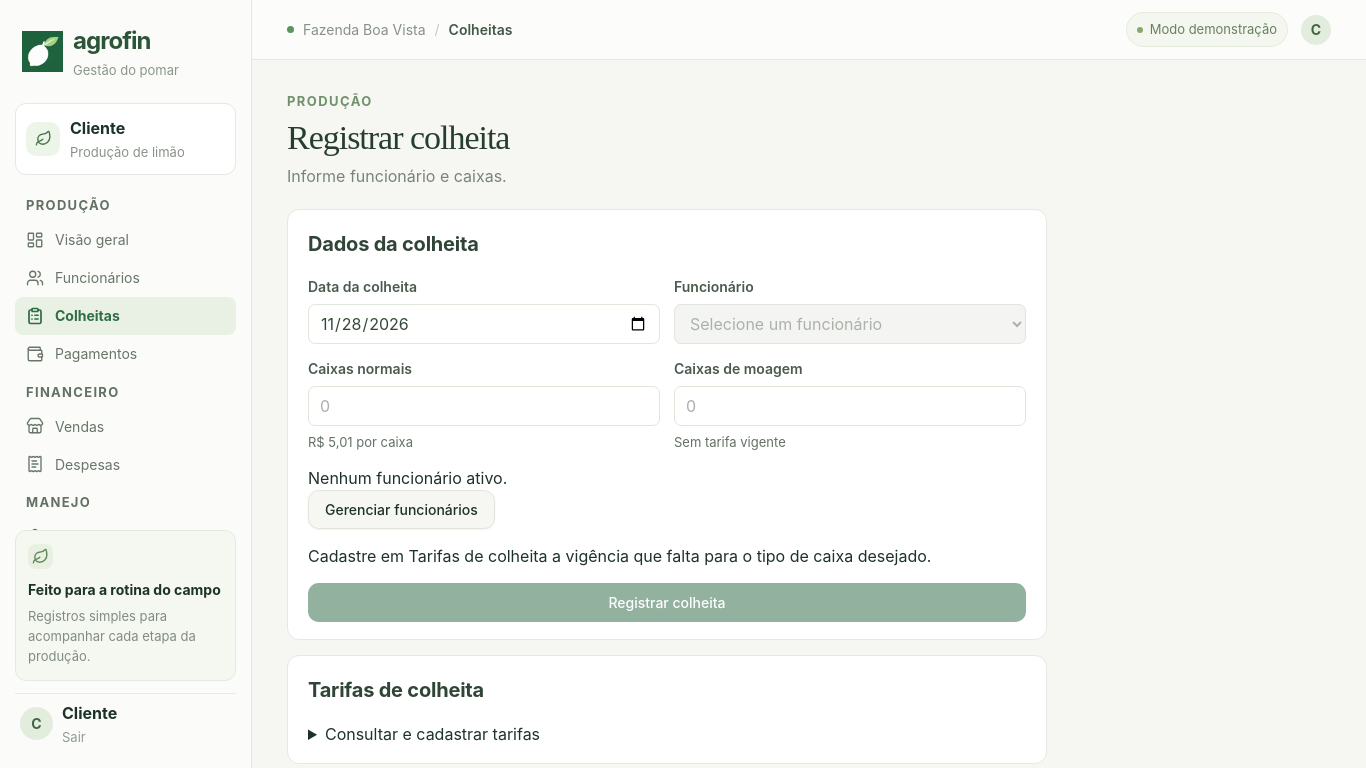
Scenario: Tarifas e colheitas › abre o cadastro de funcionários a partir da lista vazia
Expected: the text "Nenhum funcionário ativo." is shown, [308, 468, 507, 488]
Step 1. Click the button "Gerenciar funcionários" → click(401, 510), box [308, 490, 495, 529]
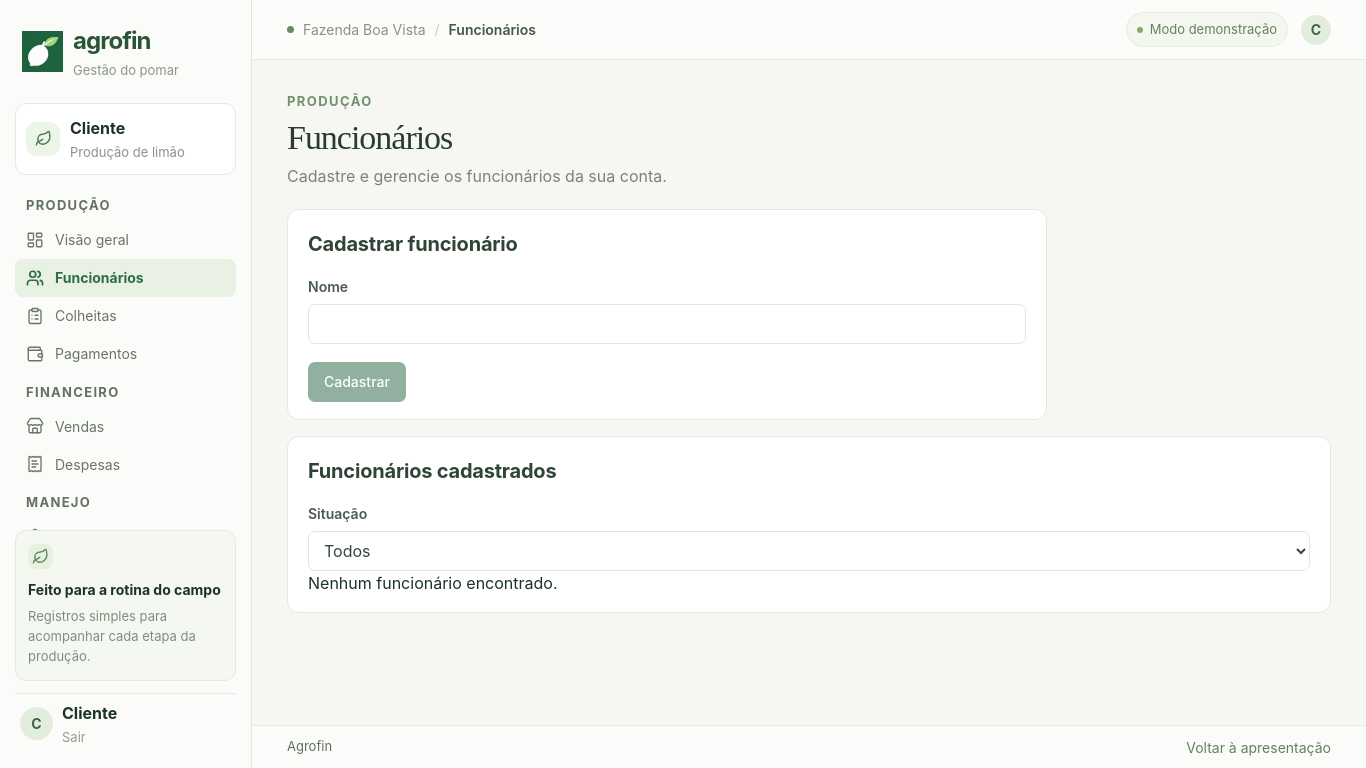
Now the heading "Cadastrar funcionário" is shown, box [308, 229, 518, 259]
